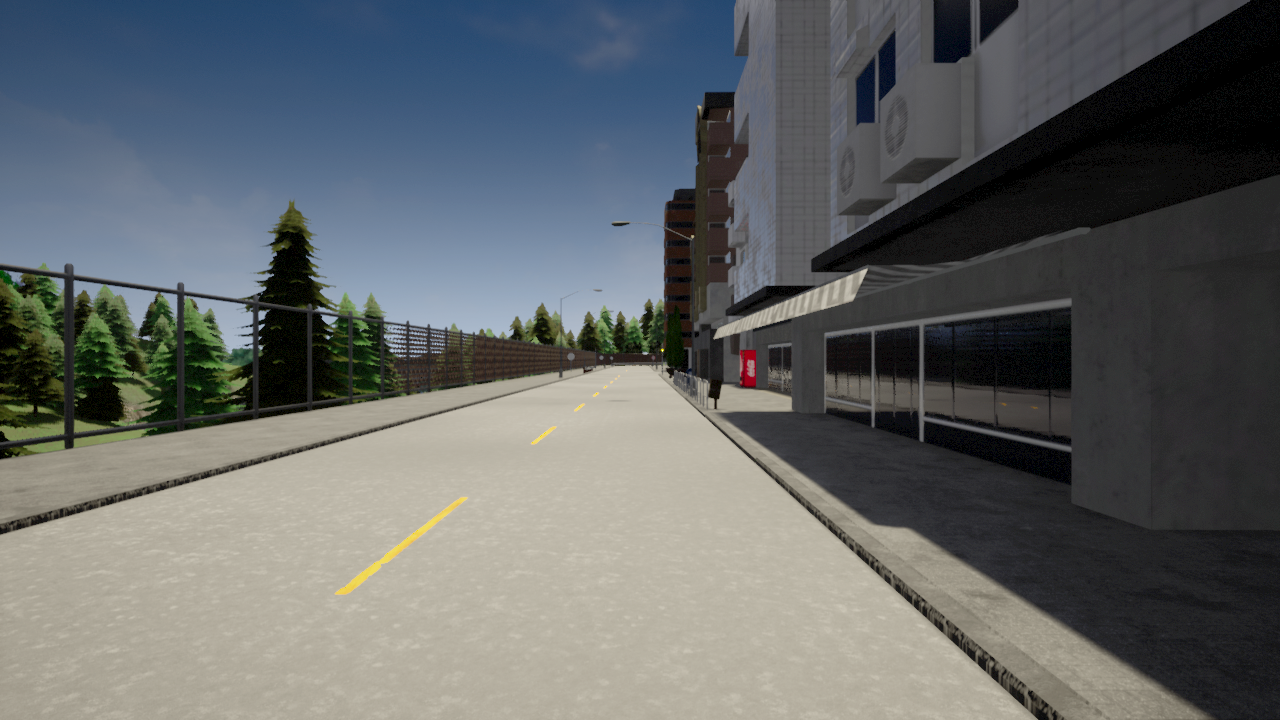yellow: (660, 345, 664, 355)
